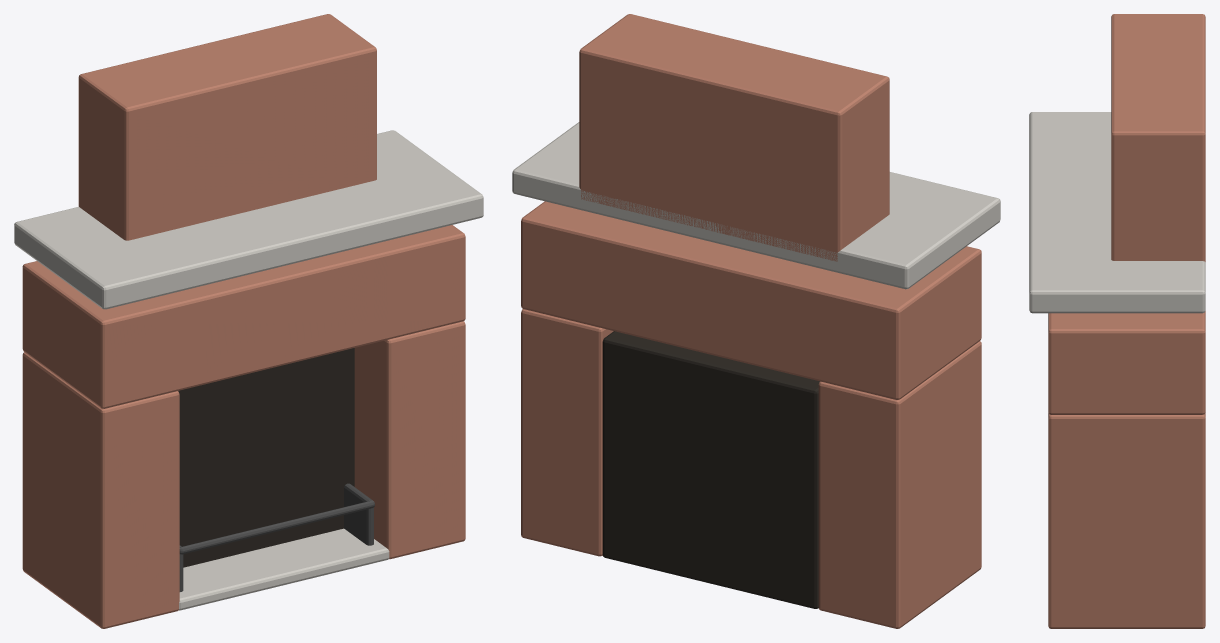
Rendered from dm_fireplace.glb.
3 renders of one model, left to right at view 1: azimuth 30°, elevation 25°; view 2: azimuth 150°, elevation 25°; view 3: azimuth 270°, elevation 25°, orthographic. The views are drawn at different scales.
Visible parts, largest first — view 1: Fireplace; view 2: Fireplace; view 3: Fireplace.
Part boxes in pixels (x1,y1,x2,y2): Fireplace: (14,14,483,628); Fireplace: (512,14,1000,628); Fireplace: (1029,14,1205,628).
Size of the model in its own units: 1.36 by 1.65 by 0.56.
